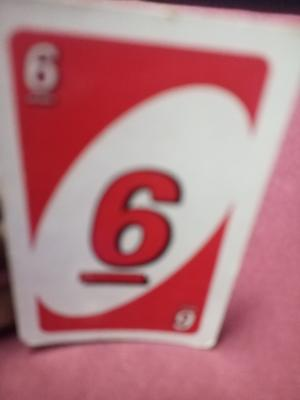num_6: (71, 157, 188, 295), (16, 35, 67, 113)
